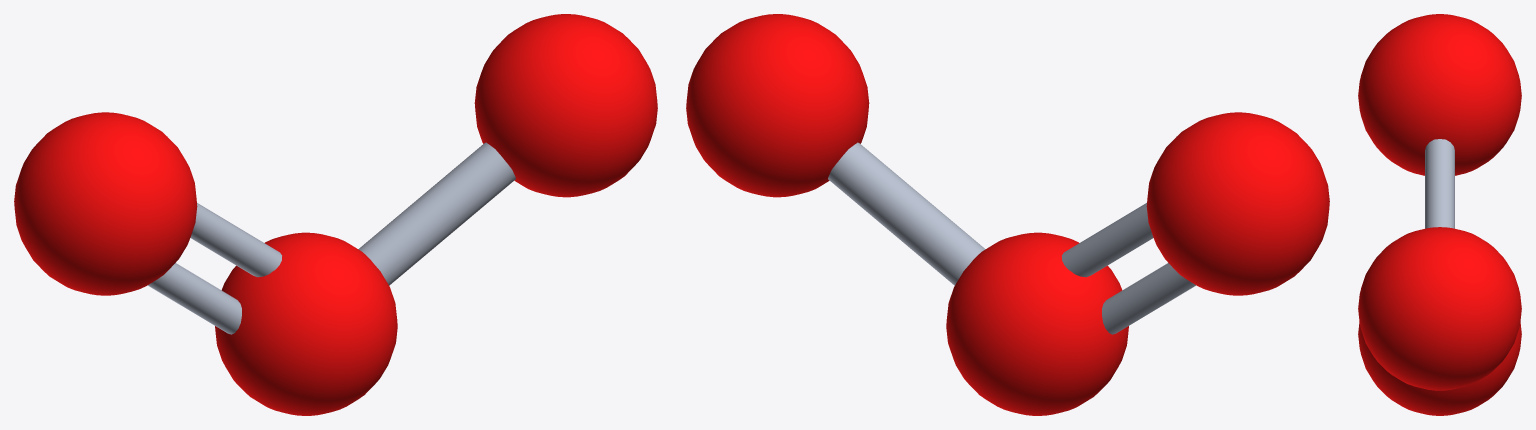
3 views of the same model, side by side, from view 1: azimuth 30°, elevation 25°; view 2: azimuth 150°, elevation 25°; view 3: azimuth 270°, elevation 25° (orthographic). The views are drawn at different scales.
Visible parts, largest first — view 1: O (×3), bond (×3); view 2: O (×3), bond (×3); view 3: O (×3), bond.
Part boxes in pixels (x1,y1,x2,y2): O (×3): (14, 14, 657, 415); bond (×3): (148, 142, 515, 334); O (×3): (686, 14, 1329, 415); bond (×3): (828, 142, 1195, 334); O (×3): (1358, 14, 1521, 415); bond: (1425, 139, 1454, 228).
Bounding box in the file's own units: 0.22 × 0.1139 × 0.0564.
